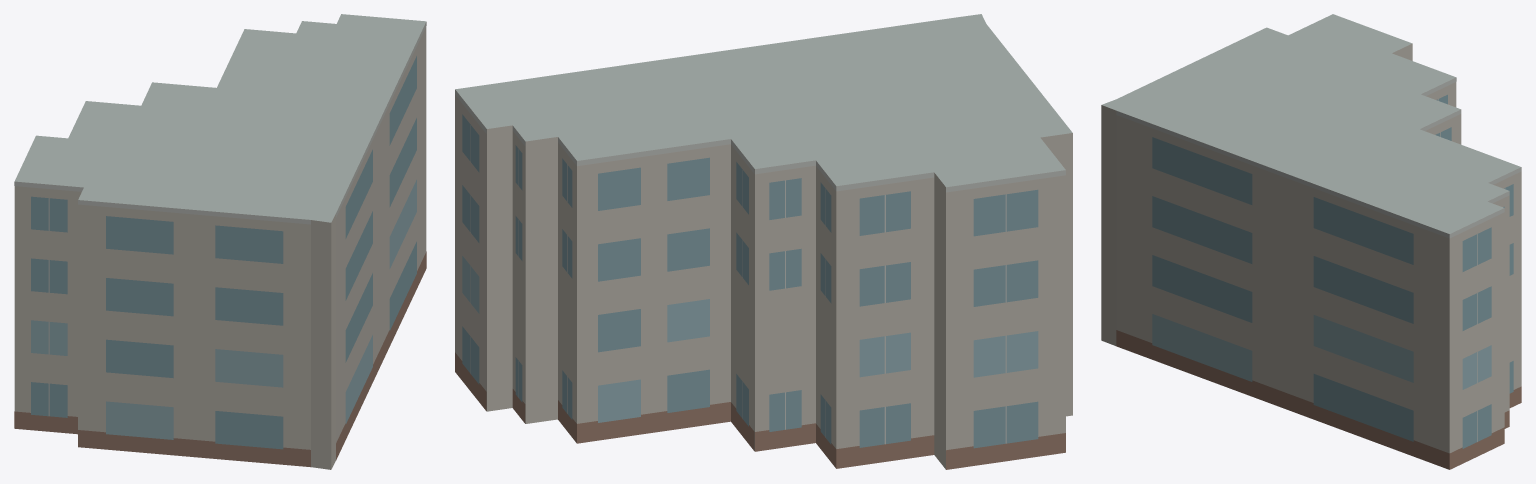
Rendered from survey-upis-32673877.glb.
The picture shows the model from 3 angles, left to right: view 1: azimuth 30°, elevation 25°; view 2: azimuth 150°, elevation 25°; view 3: azimuth 270°, elevation 25°; orthographic projection. The views are drawn at different scales.
Visible parts, largest first — view 1: survey-upis-32673877.tmp; view 2: survey-upis-32673877.tmp; view 3: survey-upis-32673877.tmp.
Boxes of the visible parts, x1,y1,x2,y2 form: survey-upis-32673877.tmp: (14,14,426,469); survey-upis-32673877.tmp: (455,14,1072,469); survey-upis-32673877.tmp: (1101,14,1521,469).
Size of the model in its own units: 26.45 by 13.2 by 21.32.
